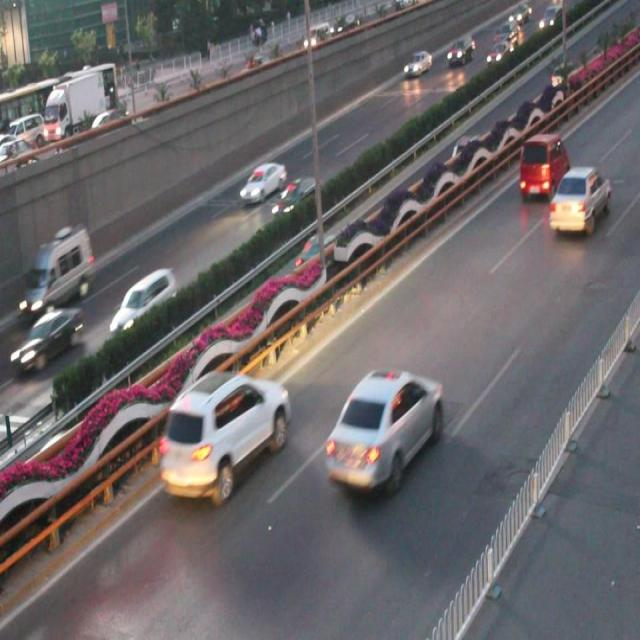car: (158, 368, 290, 507), (324, 363, 444, 490), (104, 266, 178, 336), (546, 166, 611, 237), (18, 306, 86, 371), (515, 128, 569, 200), (268, 174, 320, 220), (238, 157, 286, 203), (293, 230, 336, 270), (448, 132, 479, 161)
truck: (20, 225, 94, 312)
